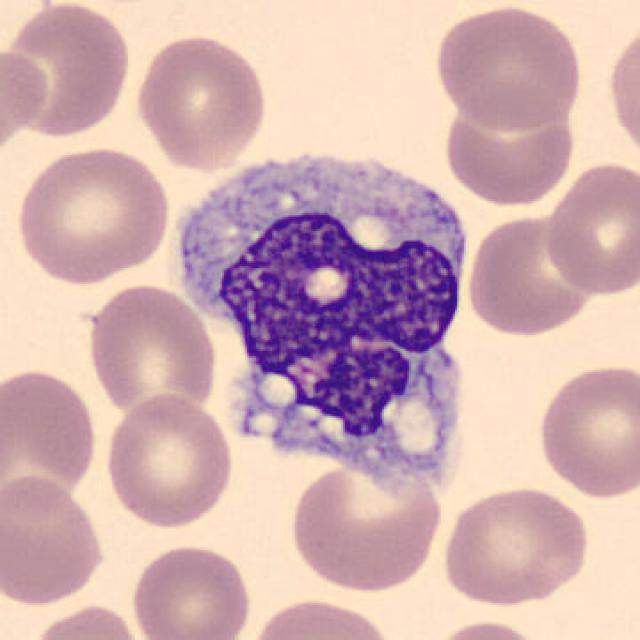Monocyte: (167, 128, 482, 494)
RBC: (12, 141, 172, 287), (284, 455, 446, 596), (430, 2, 585, 132), (130, 30, 270, 173), (439, 483, 594, 608), (100, 390, 236, 530), (84, 280, 220, 418), (2, 0, 135, 141), (464, 210, 604, 340), (441, 88, 579, 208), (0, 468, 108, 608), (0, 363, 100, 513), (534, 360, 638, 500), (540, 159, 636, 298), (128, 541, 256, 640), (244, 594, 398, 640), (0, 44, 53, 164), (604, 18, 640, 168), (26, 601, 148, 640), (421, 615, 553, 640)
